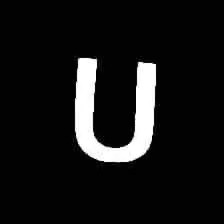LTR_U: (63, 52, 168, 164)
